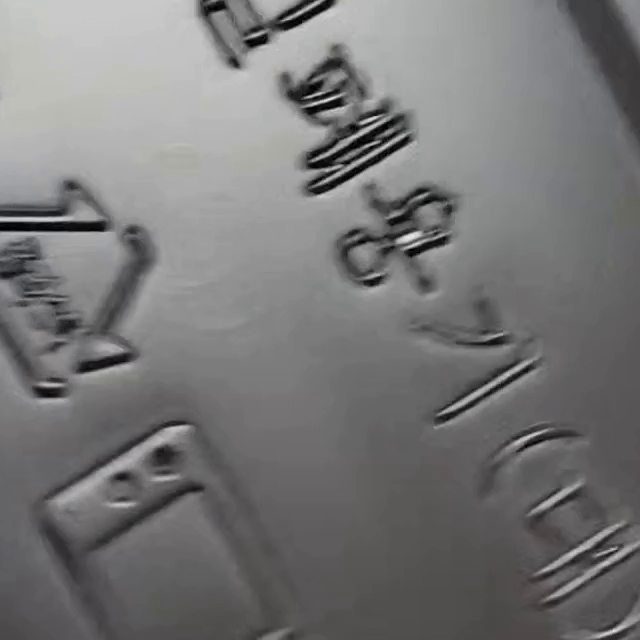Plastic: (3, 177, 155, 403)
